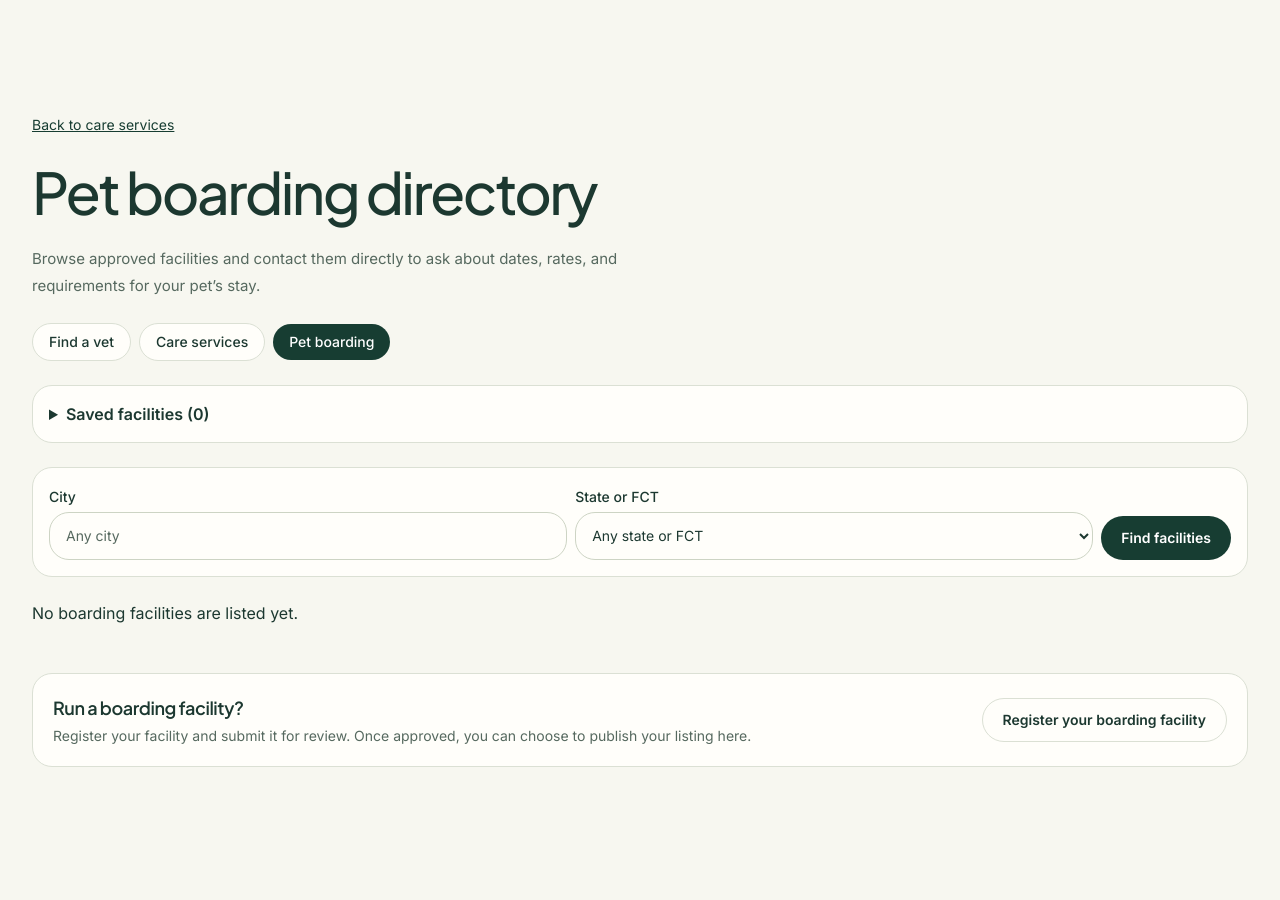
searches by city and shows a direct boarding inquiry link
Expected: the text "No boarding facilities are listed yet." is shown, [32,602,298,622]
Type " Ibadan " into the field labelled "City" at (308, 536), box [49,512,567,560]
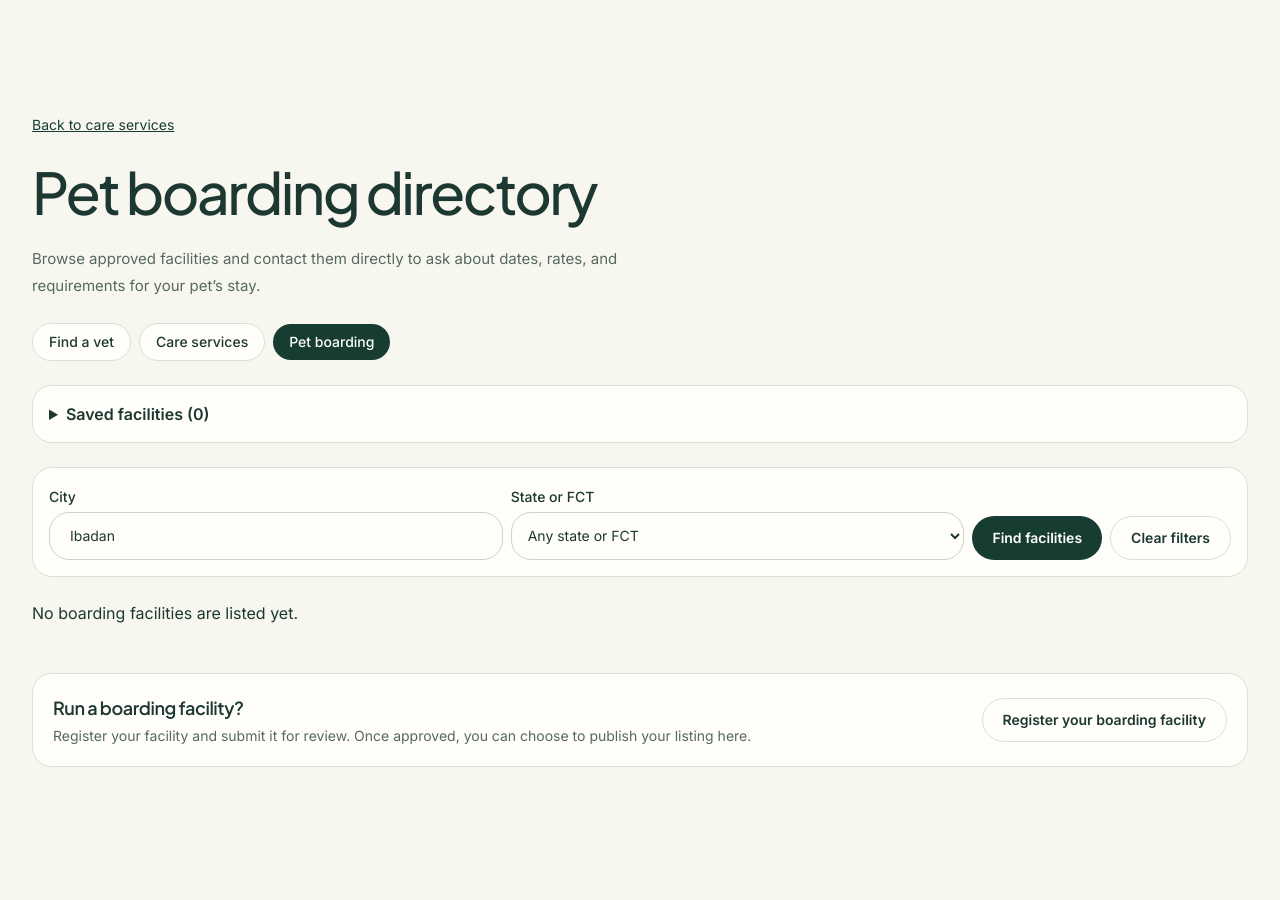
Click the button "Find facilities" at (1037, 538), box [972,516,1102,560]
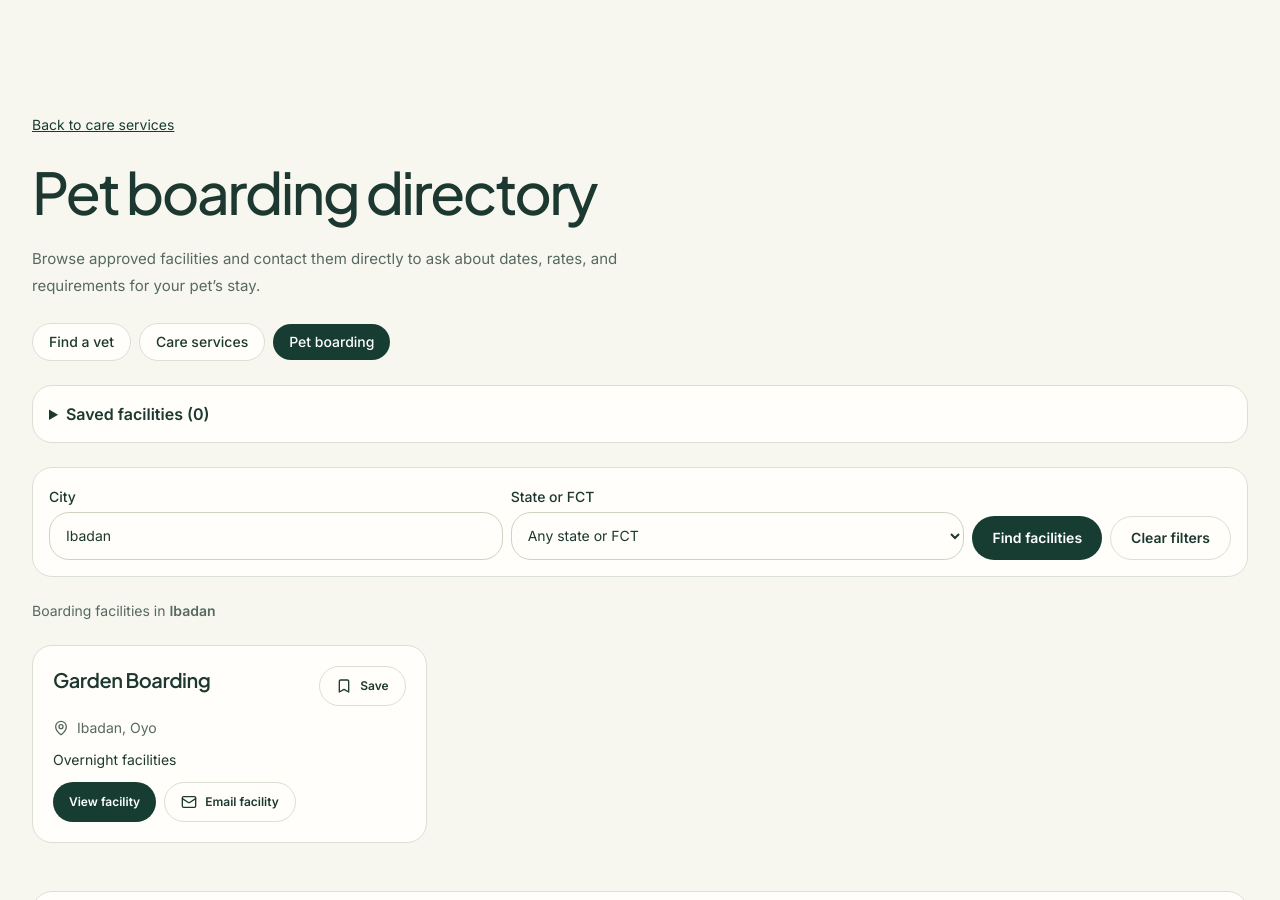
Click the button with aria-label "Save Garden Boarding to shortlist" at (362, 686), box [319,666,406,706]
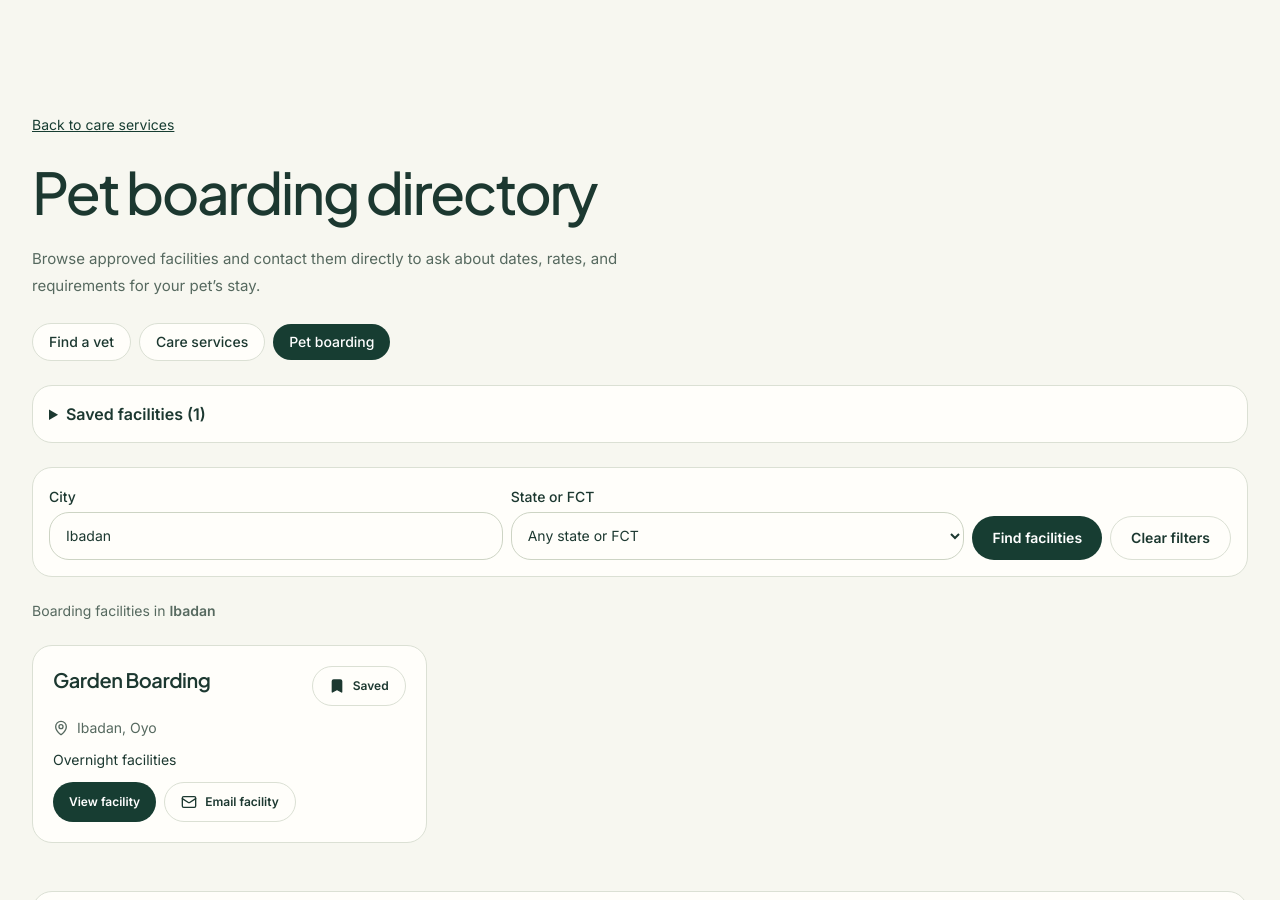
Now the heading "Saved facilities (1)" is shown, box [66,404,206,424]
Click the button with aria-label "Save Garden Boarding to shortlist" at (359, 686), box [312,666,406,706]
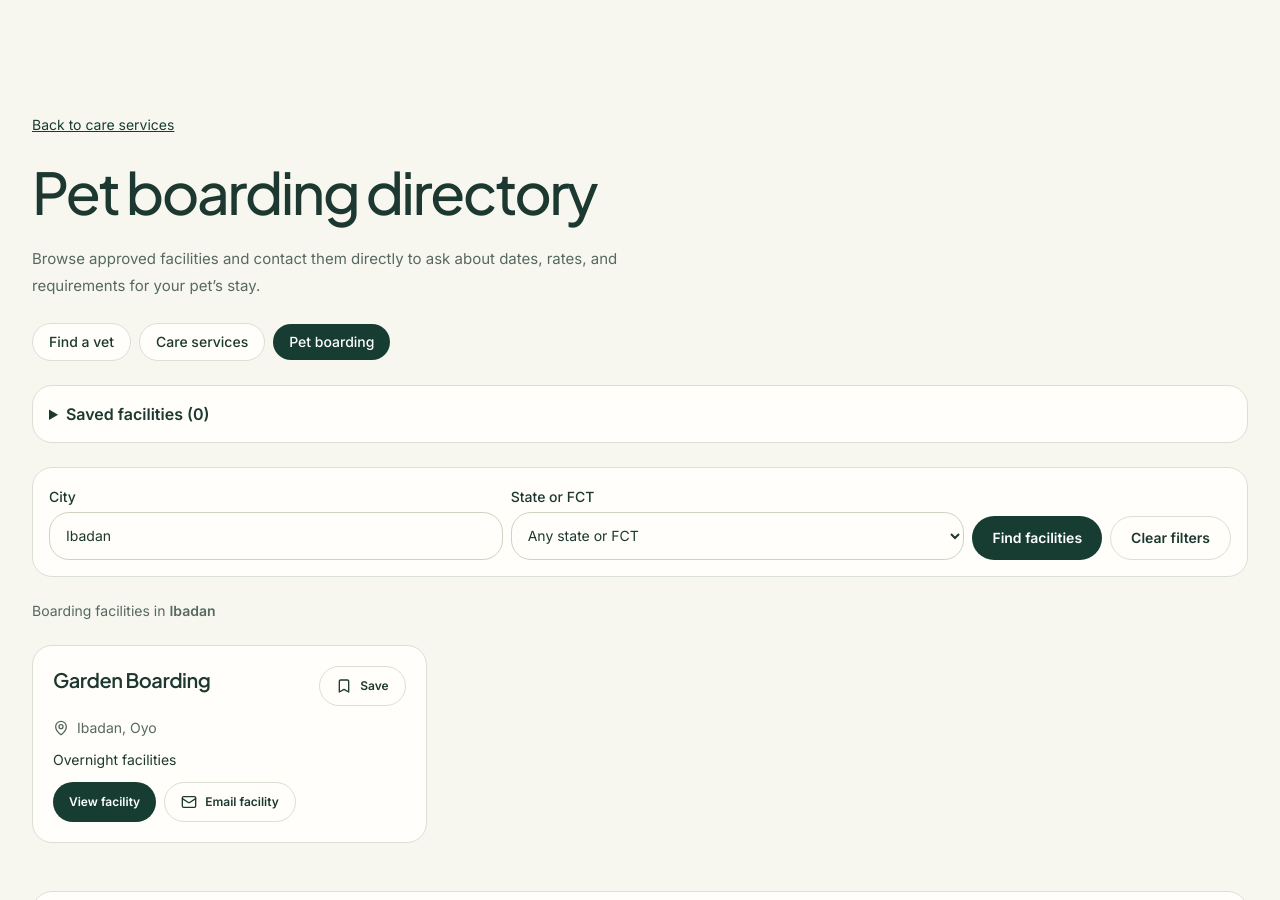
Now the heading "Saved facilities (0)" is shown, box [66,404,209,424]
